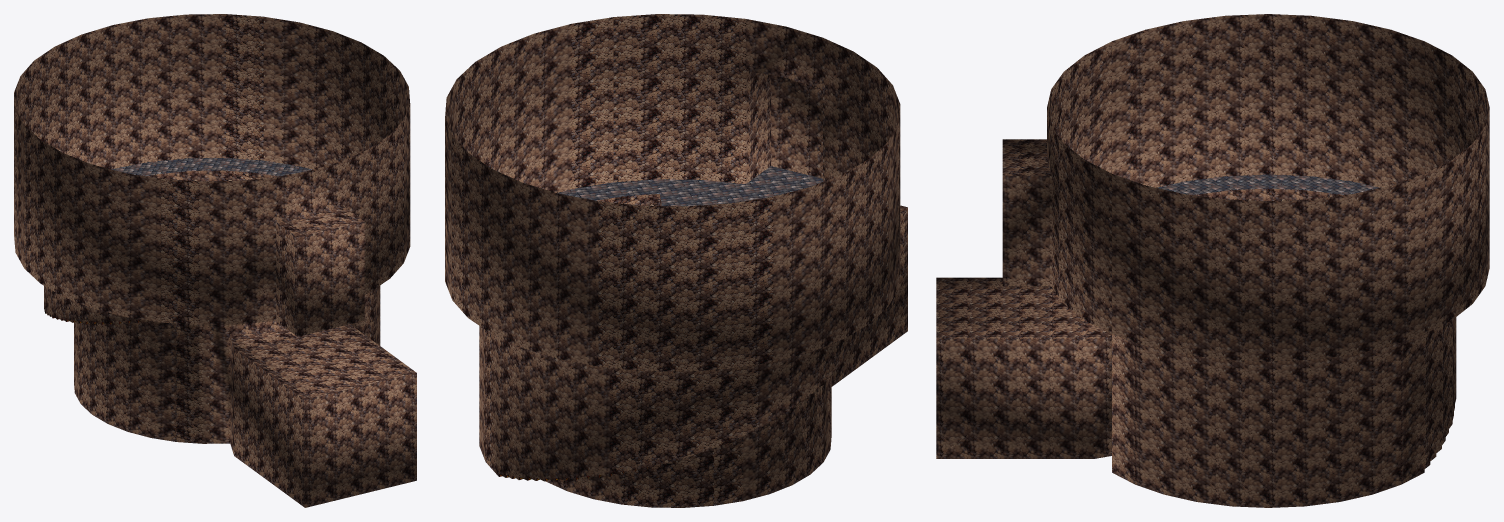
The model's file is round.gltf.
The picture shows the model from 3 angles, left to right: view 1: azimuth 30°, elevation 25°; view 2: azimuth 150°, elevation 25°; view 3: azimuth 270°, elevation 25°; orthographic projection. The views are drawn at different scales.
Visible parts, largest first — view 1: Round; view 2: Round; view 3: Round.
Boxes of the visible parts, bbox=[...] form: Round: bbox=[14, 14, 416, 507]; Round: bbox=[445, 14, 907, 507]; Round: bbox=[936, 14, 1489, 507].
Bounding box in the file's own units: 40 × 32 × 50.
Materials: 3 (3 with a texture image).
